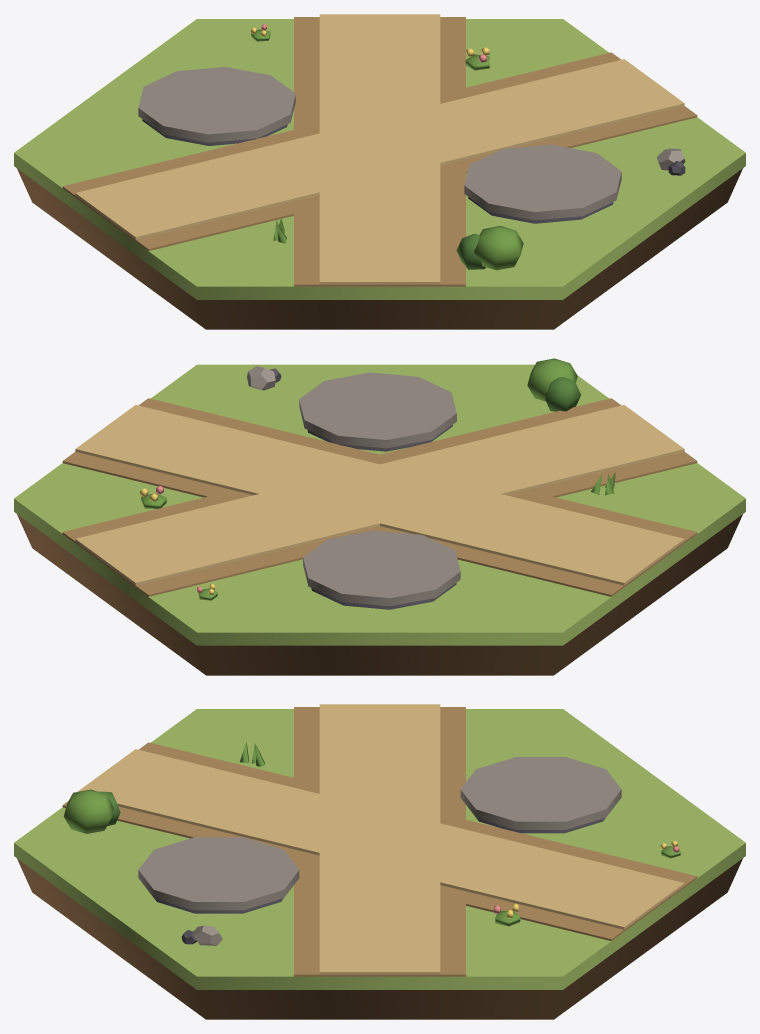
Rendered from tile_cross.glb.
3 renders of one model, top to bottom at view 1: azimuth 30°, elevation 25°; view 2: azimuth 150°, elevation 25°; view 3: azimuth 270°, elevation 25°, orthographic.
Parts seen in each view (by area): view 1: road, ground, ground_soil, tower_slot_2_plate, tower_slot_1_plate, deco_bush_2_a, road_surface_hub, deco_bush_2_b, tower_slot_2_socket; view 2: road, ground, ground_soil, tower_slot_1_plate, tower_slot_2_plate, road_surface_hub, deco_bush_2_a, deco_bush_2_b, deco_stone_3_a; view 3: road, ground, ground_soil, tower_slot_2_plate, tower_slot_1_plate, deco_bush_2_a, road_surface_hub.
Boxes of the visible parts, x1=… form: road: x1=62, y1=14, x2=697, y2=286; ground: x1=14, y1=19, x2=745, y2=299; ground_soil: x1=17, y1=168, x2=742, y2=329; tower_slot_2_plate: x1=464, y1=144, x2=621, y2=220; tower_slot_1_plate: x1=138, y1=67, x2=295, y2=142; deco_bush_2_a: x1=473, y1=225, x2=523, y2=270; road_surface_hub: x1=321, y1=131, x2=426, y2=172; deco_bush_2_b: x1=456, y1=234, x2=485, y2=269; tower_slot_2_socket: x1=468, y1=197, x2=613, y2=223; road: x1=62, y1=398, x2=697, y2=596; ground: x1=14, y1=364, x2=745, y2=645; ground_soil: x1=17, y1=514, x2=742, y2=675; tower_slot_1_plate: x1=303, y1=530, x2=460, y2=606; tower_slot_2_plate: x1=299, y1=372, x2=456, y2=448; road_surface_hub: x1=321, y1=469, x2=438, y2=518; deco_bush_2_a: x1=527, y1=358, x2=577, y2=401; deco_bush_2_b: x1=545, y1=377, x2=580, y2=411; deco_stone_3_a: x1=247, y1=366, x2=275, y2=390; road: x1=62, y1=704, x2=697, y2=976; ground: x1=14, y1=709, x2=745, y2=989; ground_soil: x1=17, y1=858, x2=742, y2=1019; tower_slot_2_plate: x1=138, y1=837, x2=299, y2=910; tower_slot_1_plate: x1=460, y1=757, x2=621, y2=829; deco_bush_2_a: x1=63, y1=789, x2=113, y2=833; road_surface_hub: x1=320, y1=828, x2=439, y2=860.
Bounding box in the file's own units: 1.73 × 0.2641 × 2.
